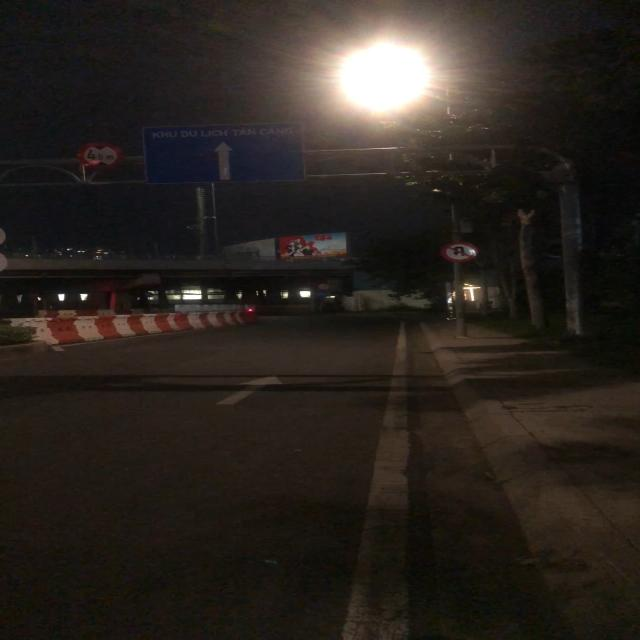Bien bao cam quay dau xe: (440, 240, 480, 263)
Bien bao han che chieu cao: (75, 140, 124, 170)
